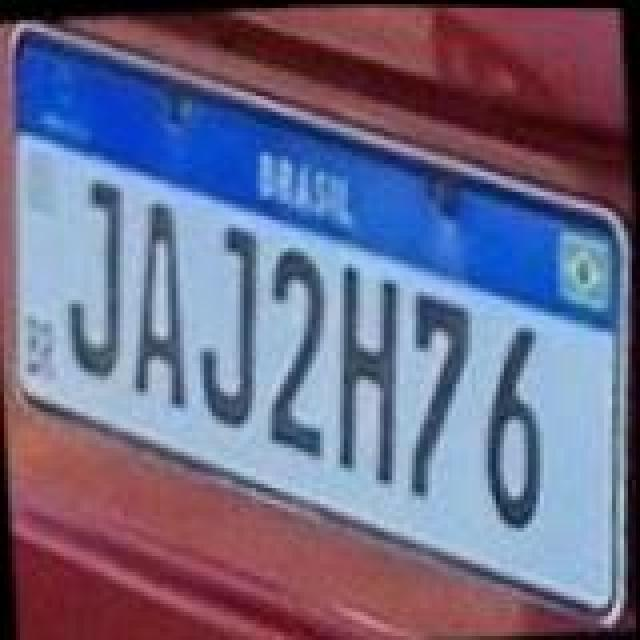2: (254, 242, 334, 462)
6: (474, 318, 554, 530)
7: (394, 286, 486, 502)
A: (118, 196, 190, 412)
H: (322, 252, 414, 488)
J: (188, 220, 272, 432), (56, 178, 136, 386)
